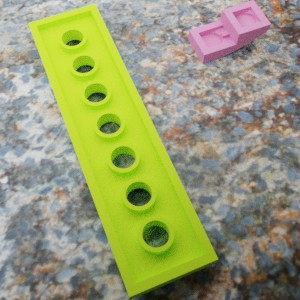lego: (28, 3, 218, 300), (187, 0, 271, 64)
